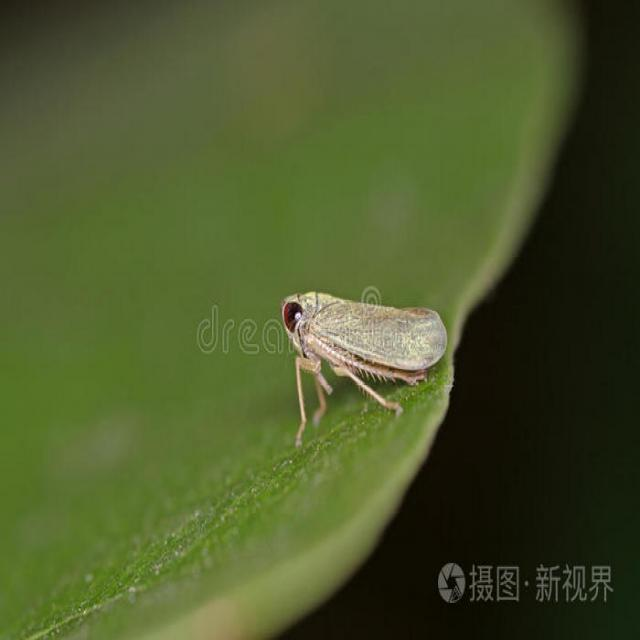Yechan: (266, 280, 452, 419)
